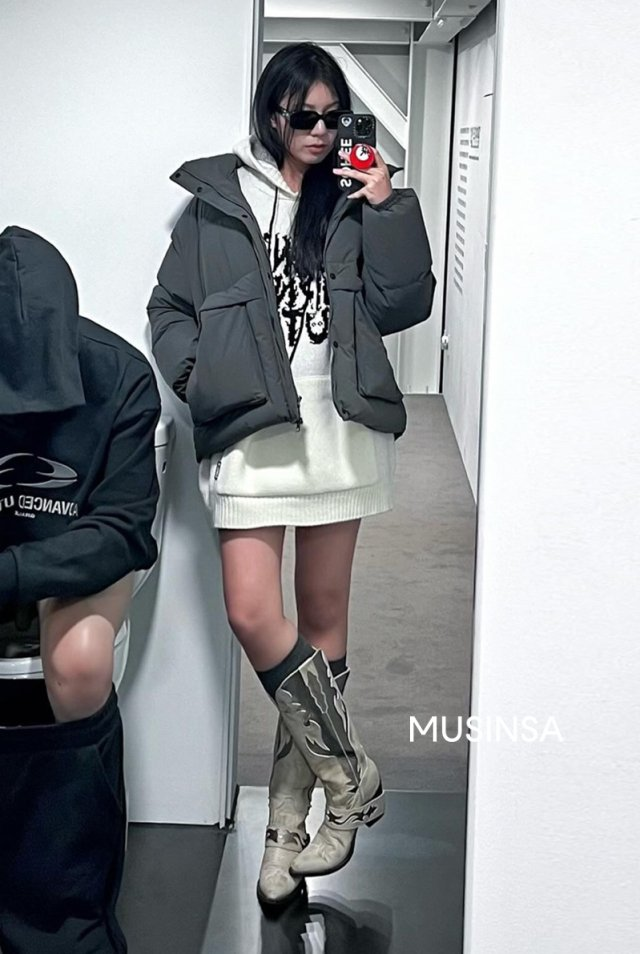Boots: (246, 638, 394, 914)
Bubble jacket: (134, 148, 441, 446)
Glasses: (270, 102, 348, 132)
